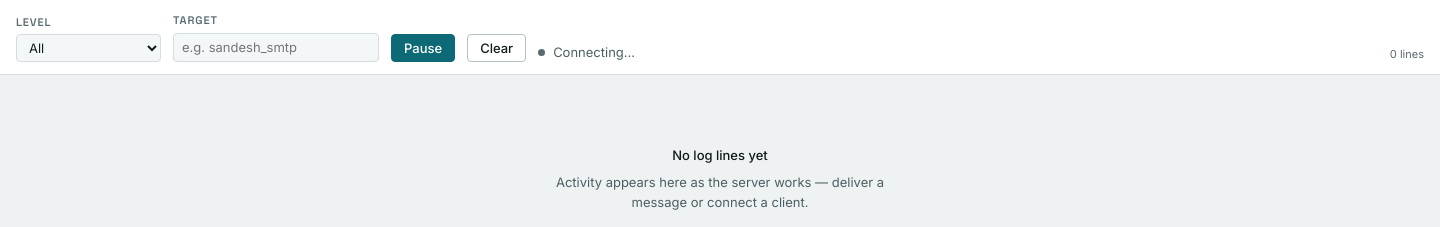
states (Phase 7 Pass B) › distinguishes an empty log from an over-narrow filter
Expected: the text "No log lines yet" is shown, [672,146,768,165]
Select "error and above" in the dropdown labelled "Level" at (88, 48), box [16,34,161,62]
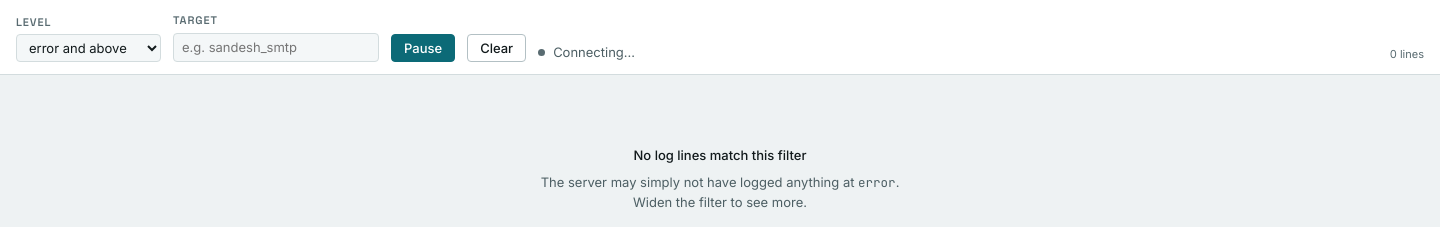
Expected: the text "No log lines match this filter" is shown, [634,146,806,165]
Expected: the text "No log lines yet" is gone
